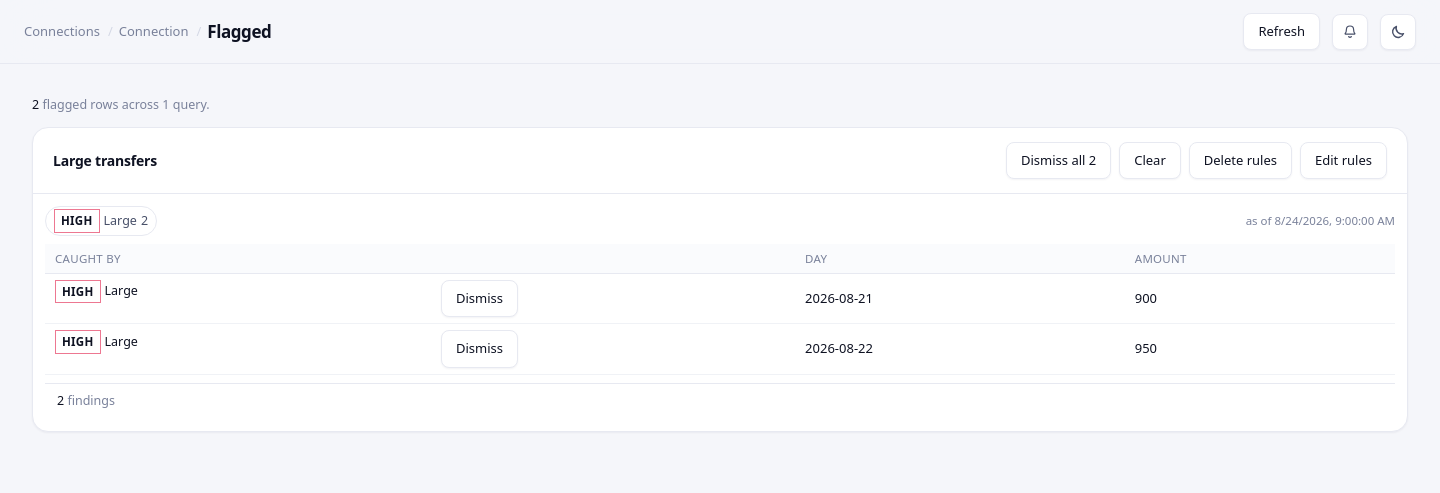
it: dismissing rows › reports a failed dismissal instead of pretending it worked
Expected: the heading "Large transfers" is shown, [53,150,157,171]
Step 1. Click the button "Dismiss all 2" → (1059, 161), box [1006,142,1111,179]
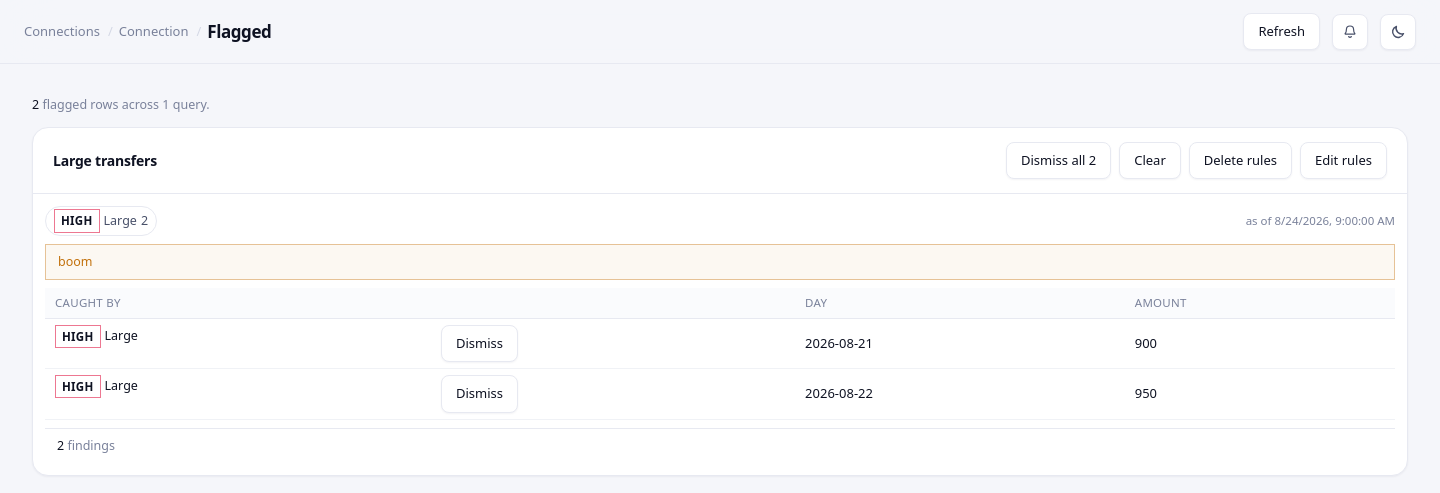
Expected: the text "boom" is shown, [45,244,1395,280]
